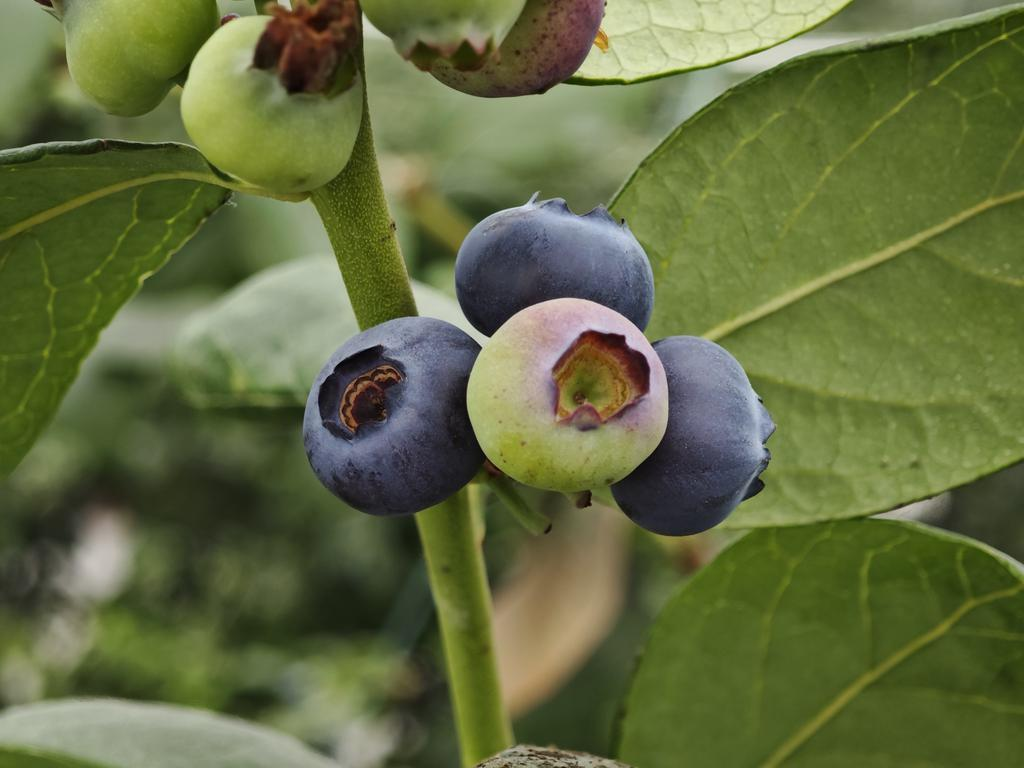RipeBlueBerry: (299, 313, 481, 519), (622, 332, 769, 539), (452, 198, 656, 333)
UnripeBlueBerry: (463, 294, 673, 500)
